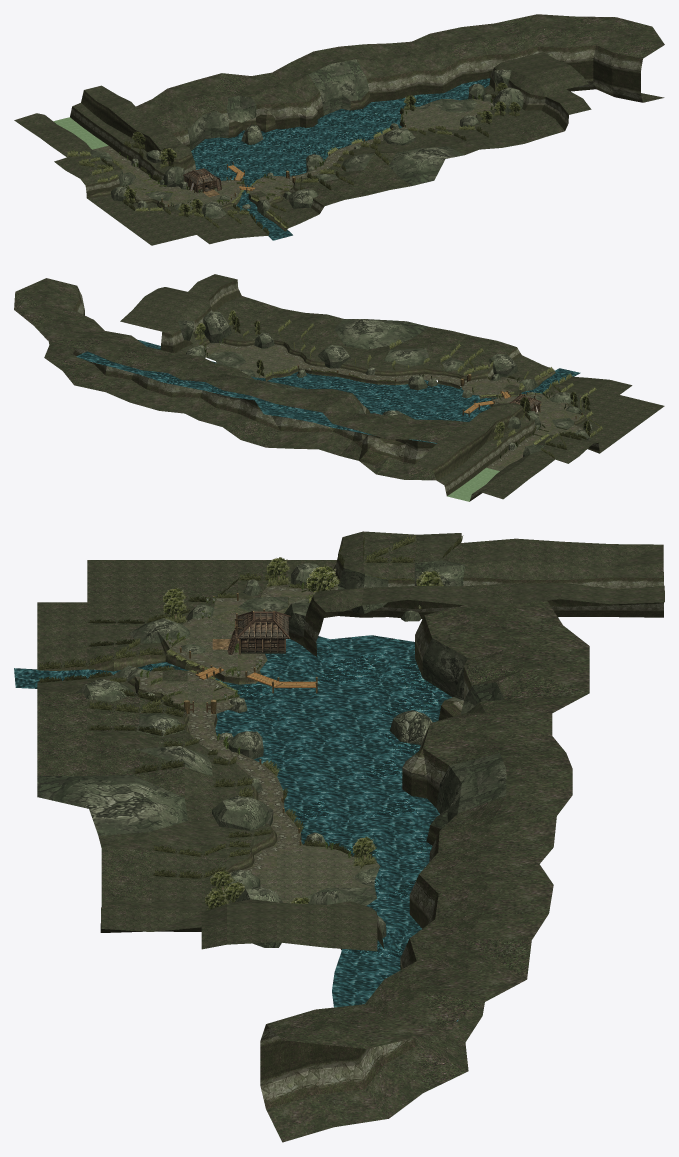
Rendered from East6.obj.
3 renders of one model, top to bottom at view 1: azimuth 30°, elevation 25°; view 2: azimuth 150°, elevation 25°; view 3: azimuth 270°, elevation 25°, orthographic. The views are drawn at different scales.
Bounding box in the file's own units: 204 × 22.97 × 104.
16 materials, 16 textured.
